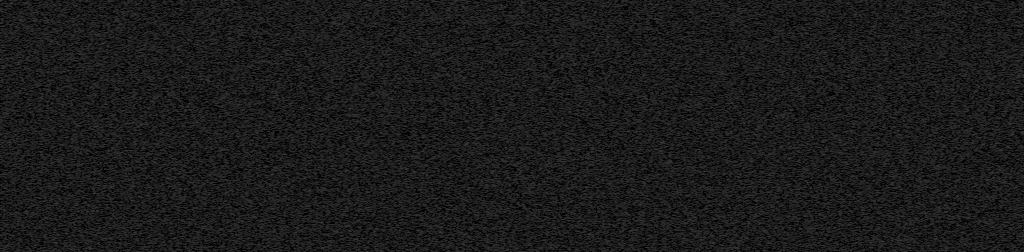wv_am: (754, 0, 759, 217), (754, 219, 759, 252)
wv_cw: (767, 0, 773, 252)
wv_usb: (195, 29, 200, 144), (195, 176, 200, 239), (195, 145, 200, 175), (195, 2, 200, 28), (195, 240, 200, 251)
